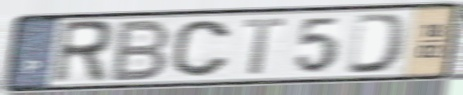5: (292, 15, 346, 75)
B: (107, 18, 174, 84)
C: (169, 18, 233, 79)
D: (343, 11, 411, 76)
R: (49, 18, 115, 86)
T: (241, 16, 289, 77)
